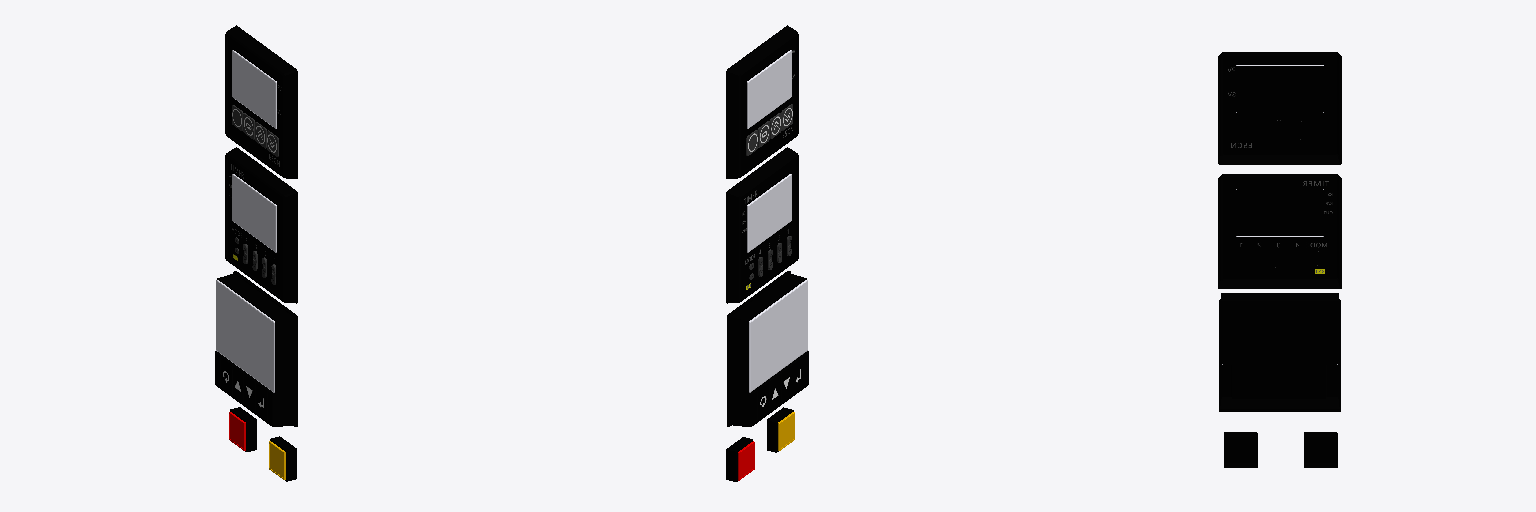
3 views of the same model, side by side, from view 1: azimuth 30°, elevation 25°; view 2: azimuth 150°, elevation 25°; view 3: azimuth 270°, elevation 25° (orthographic).
Visible parts, largest first — view 1: Temp:DisplayMesh CP3MainGrp; view 2: Temp:DisplayMesh CP3MainGrp; view 3: Temp:DisplayMesh CP3MainGrp.
Part boxes in pixels (left/top/right/bottom): Temp:DisplayMesh CP3MainGrp: left=215, top=25, right=297, bottom=481; Temp:DisplayMesh CP3MainGrp: left=726, top=25, right=808, bottom=481; Temp:DisplayMesh CP3MainGrp: left=1218, top=52, right=1341, bottom=467.
Size of the model in its own units: 1.22 by 19.07 by 5.2.
1 materials, 1 textured.